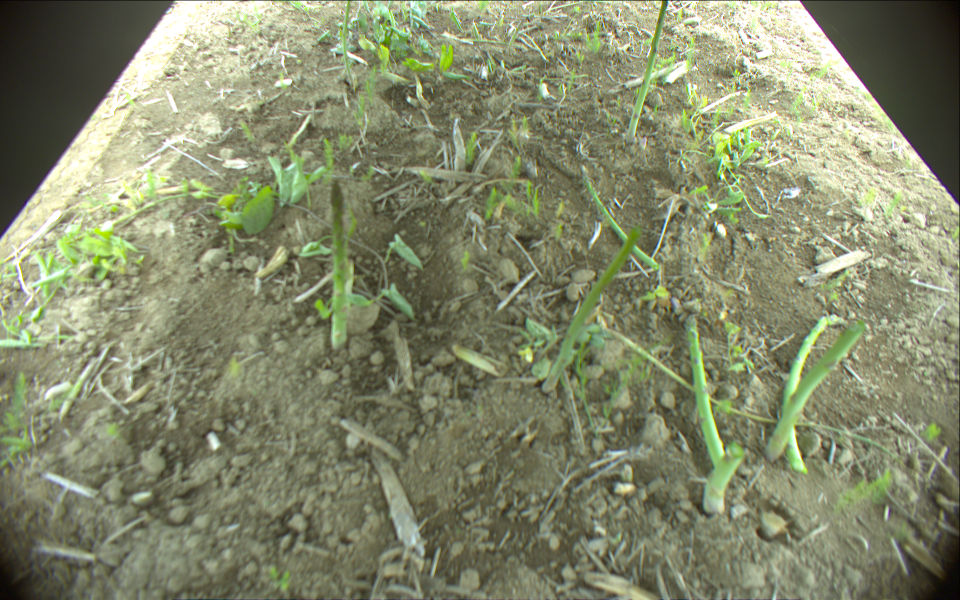aspa: (542, 227, 642, 397), (761, 322, 866, 459), (576, 165, 659, 270), (781, 316, 831, 474), (626, 1, 668, 140), (689, 326, 725, 469), (330, 179, 349, 349), (703, 442, 744, 516), (342, 1, 356, 85)
